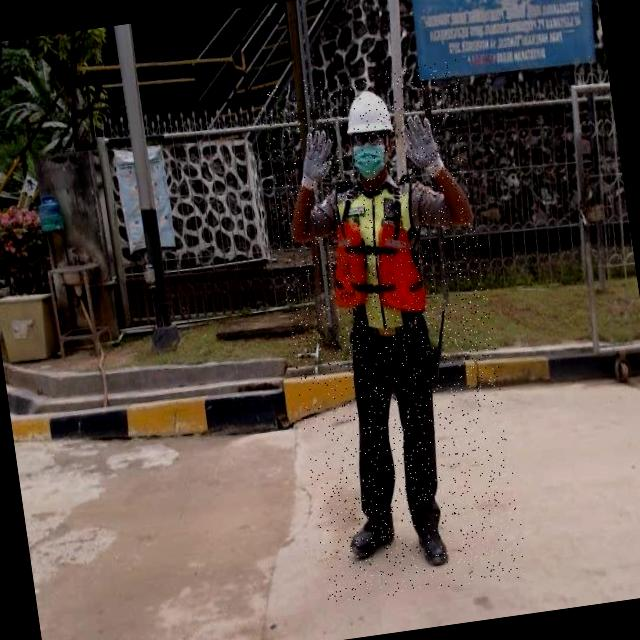boots: (339, 514, 404, 568), (409, 520, 456, 573)
gloves: (284, 124, 345, 194), (398, 111, 443, 178)
vest: (316, 172, 438, 335)
